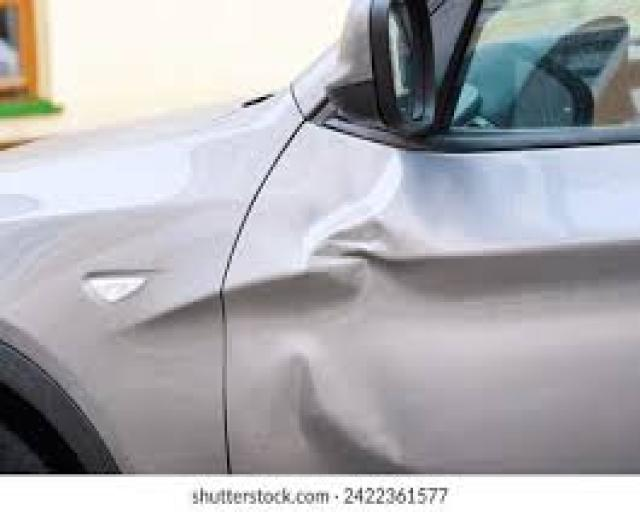dent: (287, 156, 433, 317), (262, 338, 413, 488)
